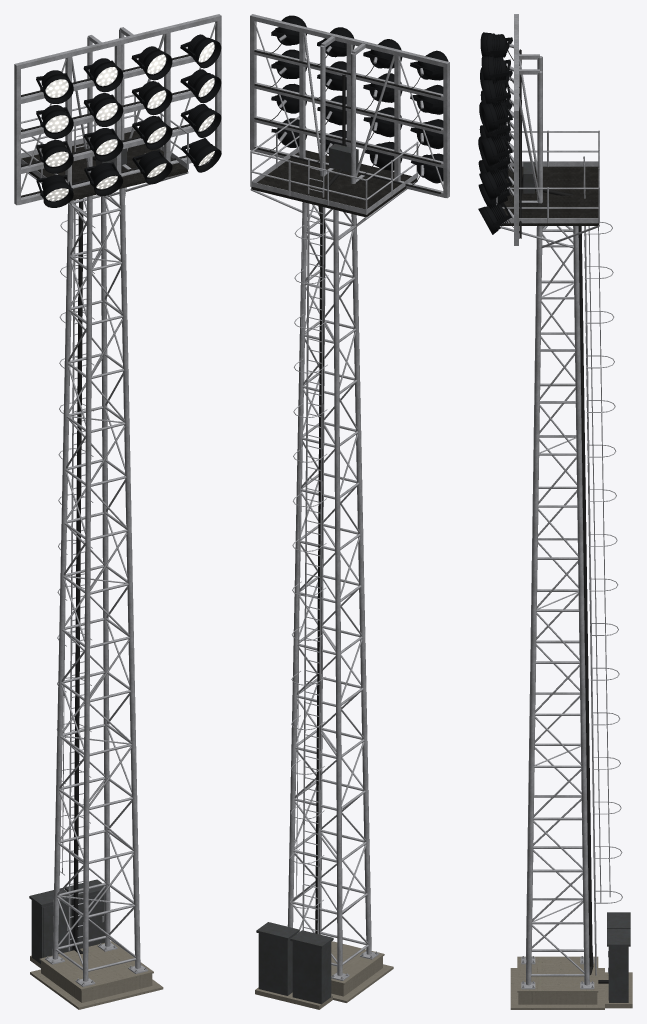
File: light_tower.glb
3 renders of one model, left to right at view 1: azimuth 30°, elevation 25°; view 2: azimuth 150°, elevation 25°; view 3: azimuth 270°, elevation 25°, orthographic. The views are drawn at different scales.
Visible parts, largest first — view 1: LightTower_Mesh; view 2: LightTower_Mesh; view 3: LightTower_Mesh.
Part boxes in pixels (x1,y1,x2,y2): LightTower_Mesh: (14, 14, 221, 1009); LightTower_Mesh: (250, 14, 449, 1009); LightTower_Mesh: (478, 14, 632, 1009).
Size of the model in its own units: 5.82 by 25.99 by 3.92.
7 materials, 5 textured.
